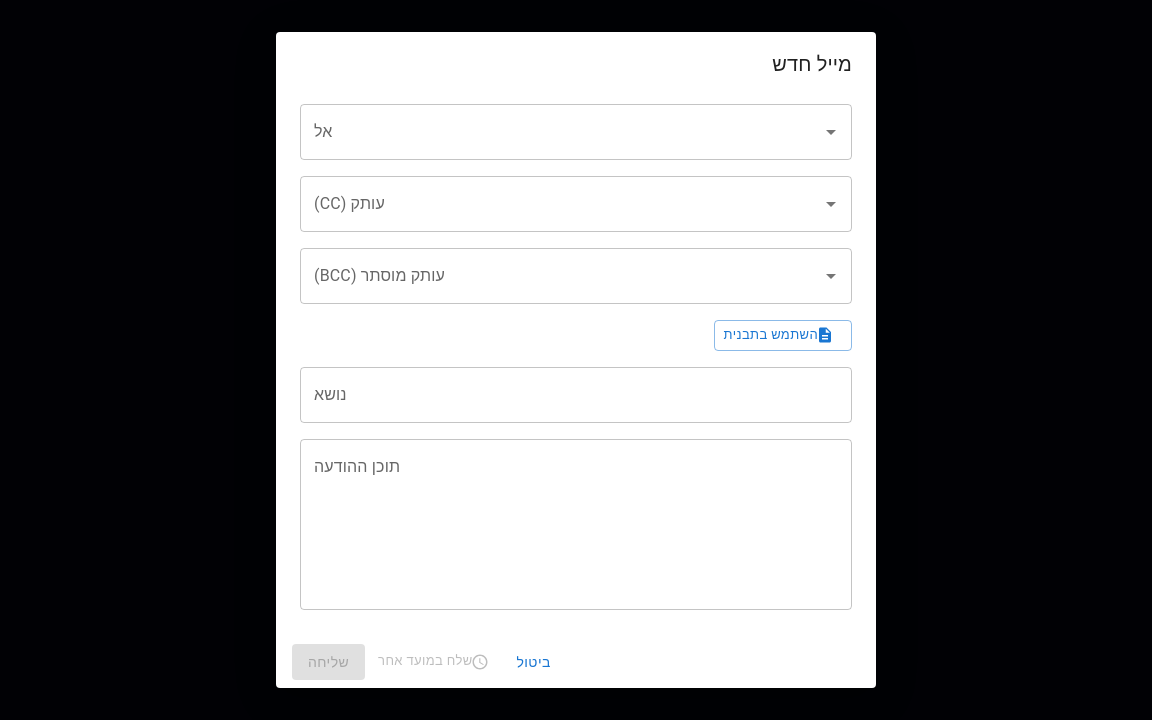
EmailComposeModal › template picker (TODO_SPEC.md "משימה 12") › selecting a template fills subject/body, substituting variables from templateContext
Click the button "השתמש בתבנית" at (783, 335), box [714,320,852,351]
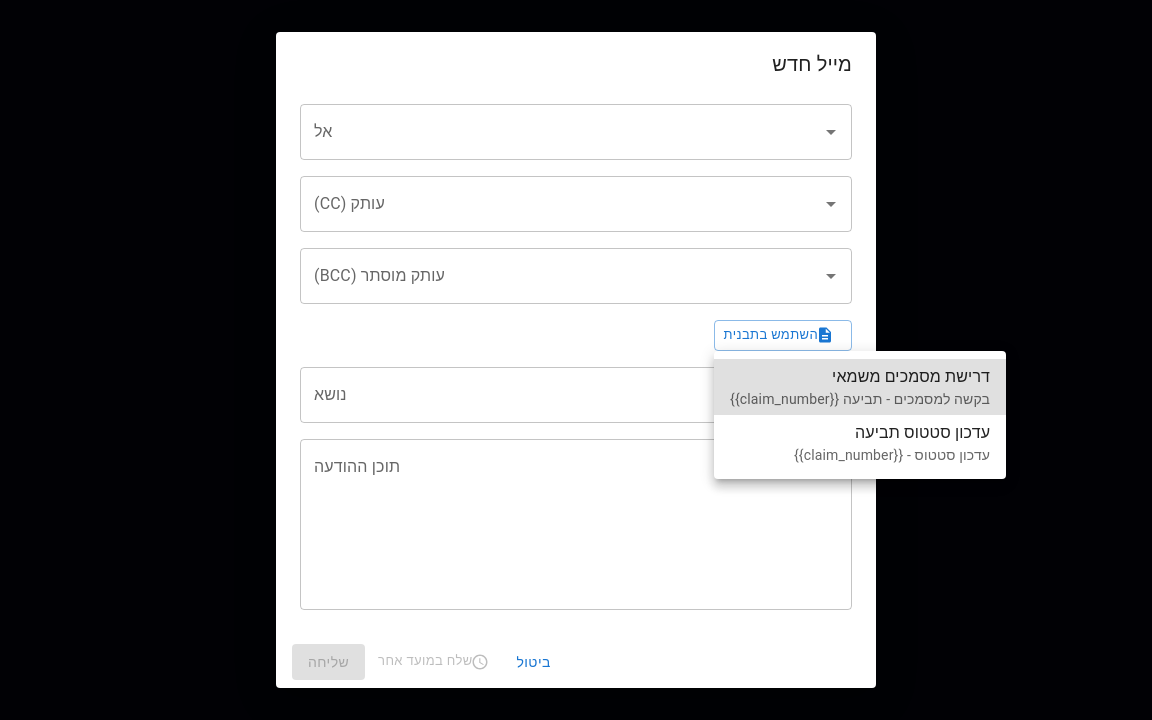
Click the text "דרישת מסמכים משמאי" at (911, 376), box [832,367,990,386]
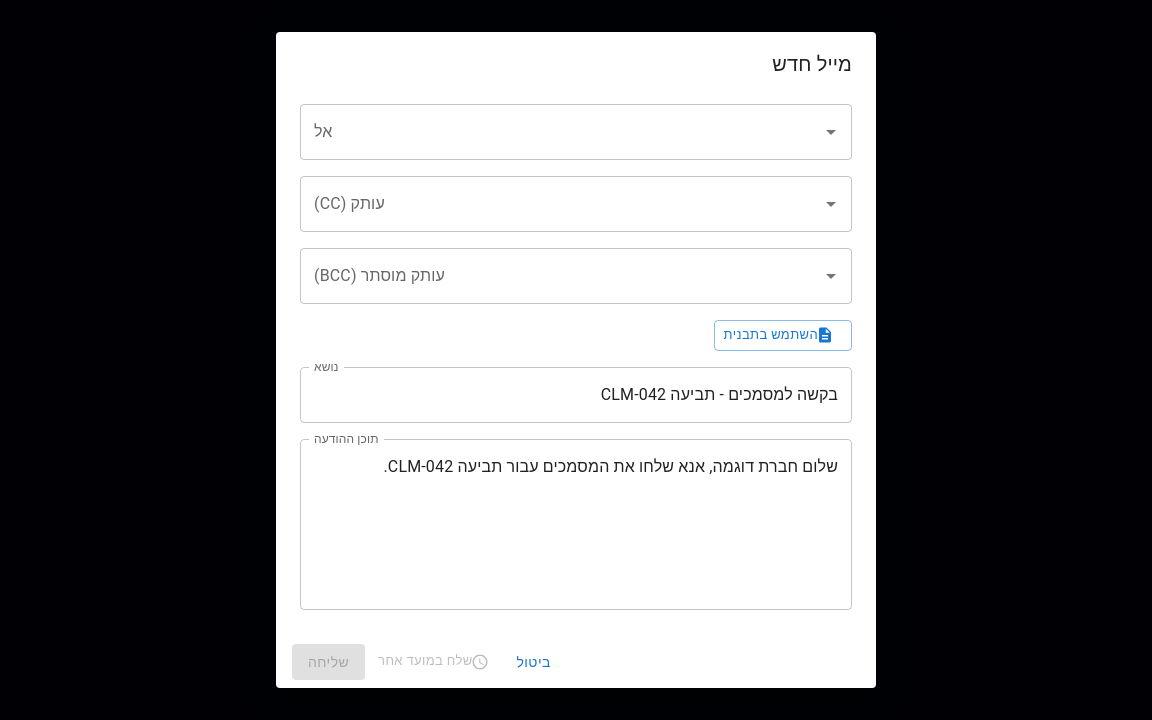
Check: the field labelled "נושא" holds "בקשה למסמכים - תביעה CLM-042", box [300,367,852,423]
Check: the text box labelled "תוכן ההודעה" holds "שלום חברת דוגמה, אנא שלחו את המסמכים עבור תביעה CLM-042.", box [314,455,838,593]
